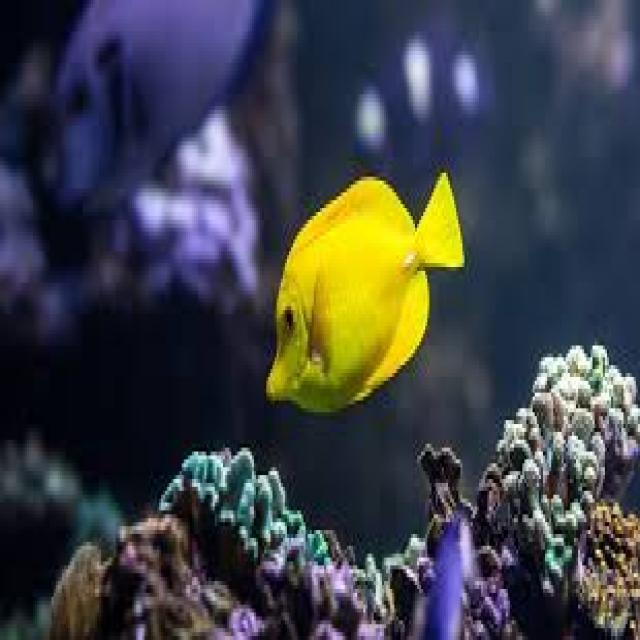YellowTang: (259, 146, 465, 445)
